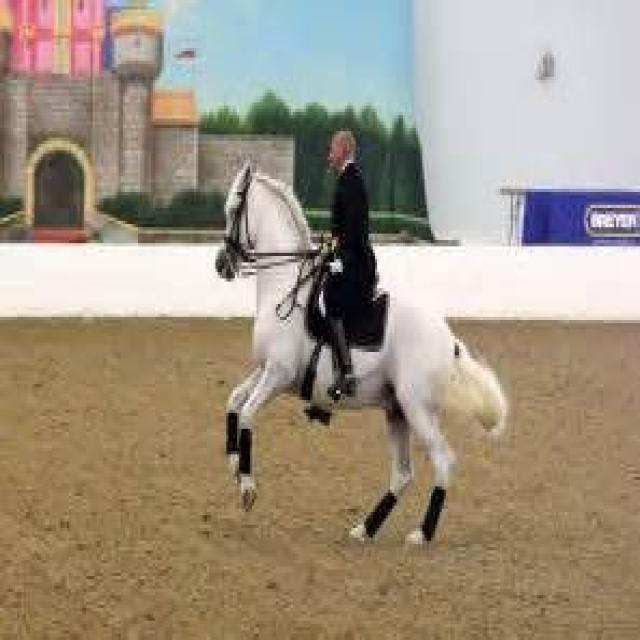horse: (215, 166, 511, 544)
